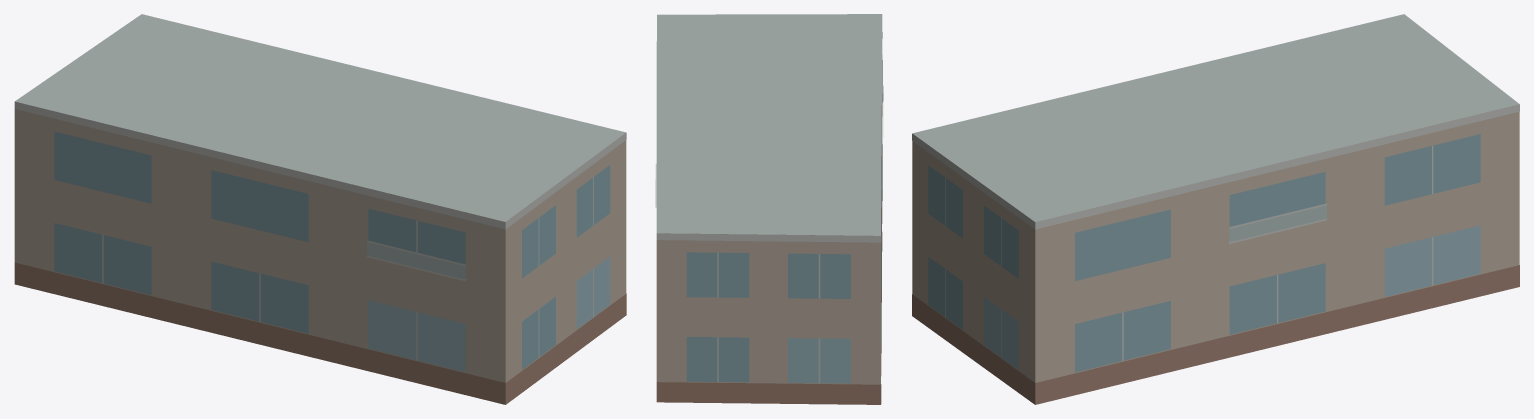
Rendered from survey-upis-32694482.glb.
3 renders of one model, left to right at view 1: azimuth 30°, elevation 25°; view 2: azimuth 150°, elevation 25°; view 3: azimuth 270°, elevation 25°, orthographic. The views are drawn at different scales.
Visible parts, largest first — view 1: survey-upis-32694482.tmp; view 2: survey-upis-32694482.tmp; view 3: survey-upis-32694482.tmp.
Part boxes in pixels (x1,y1,x2,y2): survey-upis-32694482.tmp: (14,14,626,404); survey-upis-32694482.tmp: (655,14,883,404); survey-upis-32694482.tmp: (912,14,1519,404).
Size of the model in its own units: 14.92 by 6.1 by 18.4.
